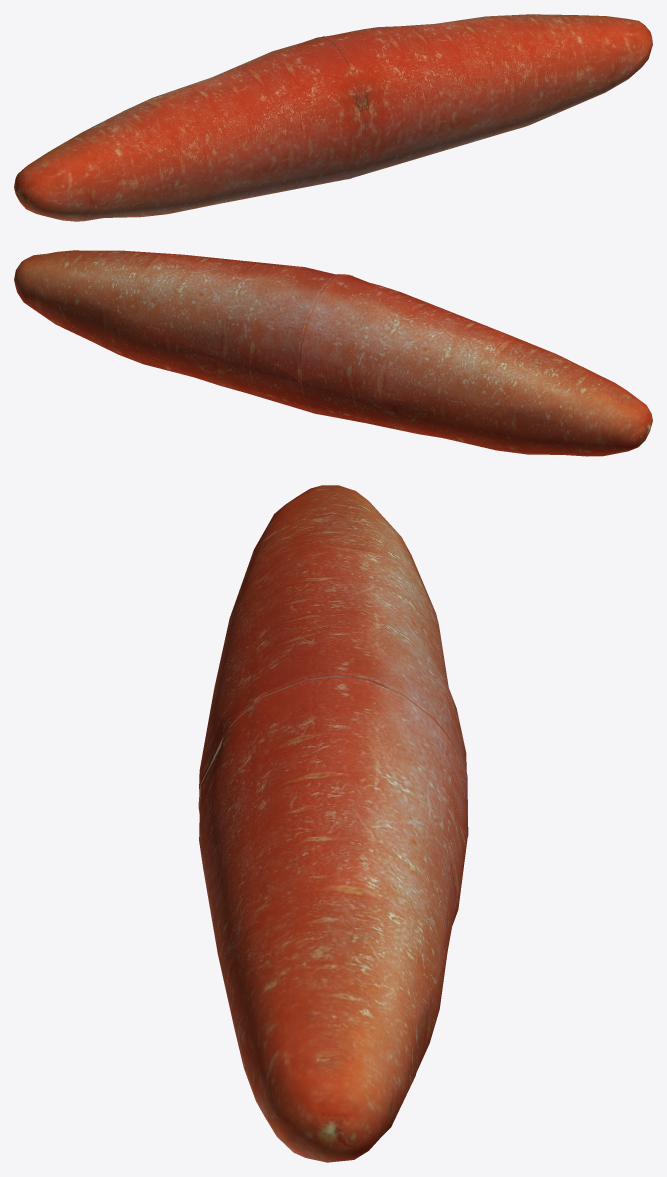
File: Carrot.gltf
The picture shows the model from 3 angles, top to bottom: view 1: azimuth 30°, elevation 25°; view 2: azimuth 150°, elevation 25°; view 3: azimuth 270°, elevation 25°; orthographic projection. The views are drawn at different scales.
Parts seen in each view (by area): view 1: Carrot_Left, Carrot_Right; view 2: Carrot_Left, Carrot_Right; view 3: Carrot_Right, Carrot_Left.
Part boxes in pixels (box(x1,y1,x2,y2)): Carrot_Left: box(14, 36, 368, 221); Carrot_Right: box(315, 14, 652, 179); Carrot_Left: box(298, 274, 652, 456); Carrot_Right: box(14, 250, 352, 414); Carrot_Right: box(198, 672, 468, 1162); Carrot_Left: box(198, 485, 468, 836).
Size of the model in its own units: 1.86 by 0.3752 by 0.3428.
Materials: 1 (1 with a texture image).
